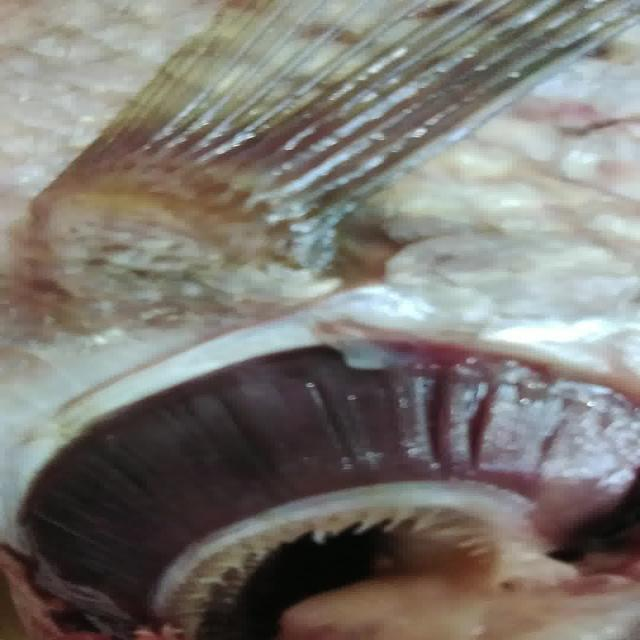Non-Fresh: (38, 323, 590, 610)
